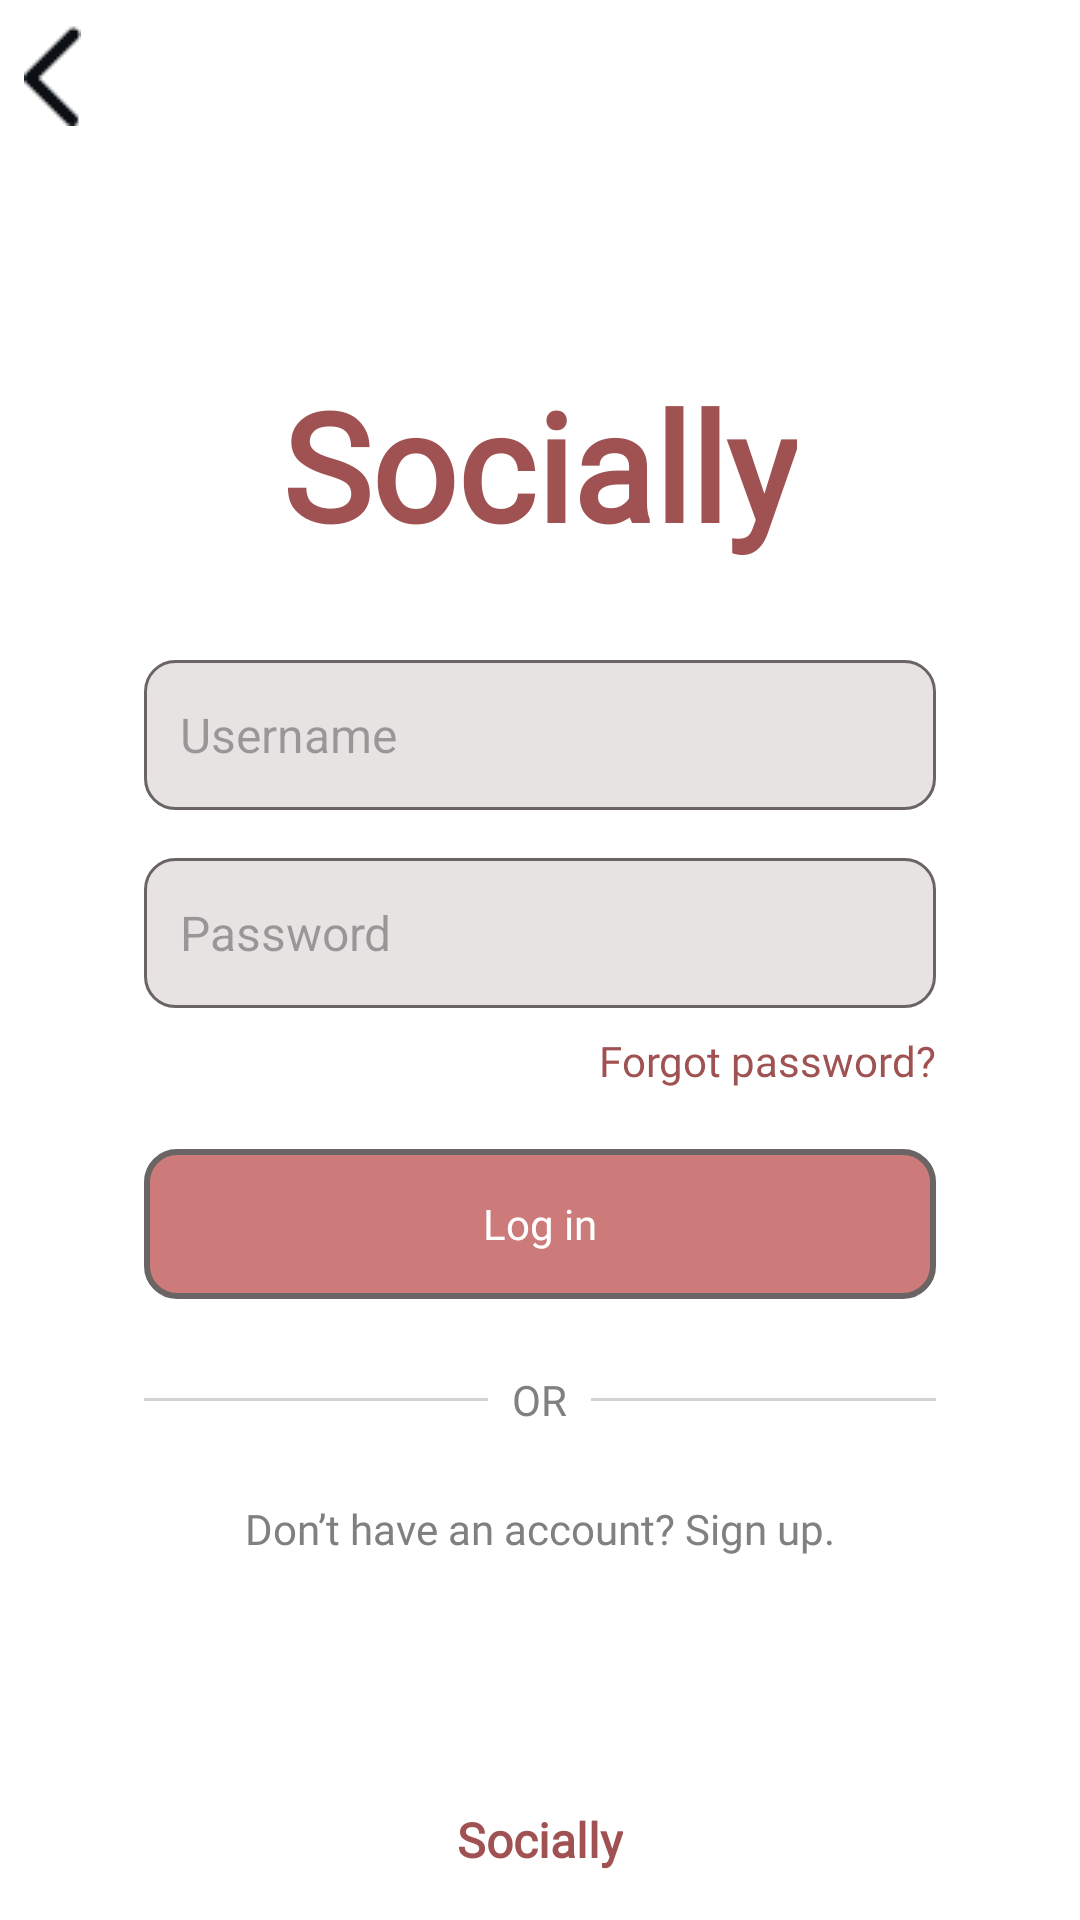

Icons on this 1080×1920 Android screen, each with the point to tap as point (x, y):
Back: point (52, 76)
